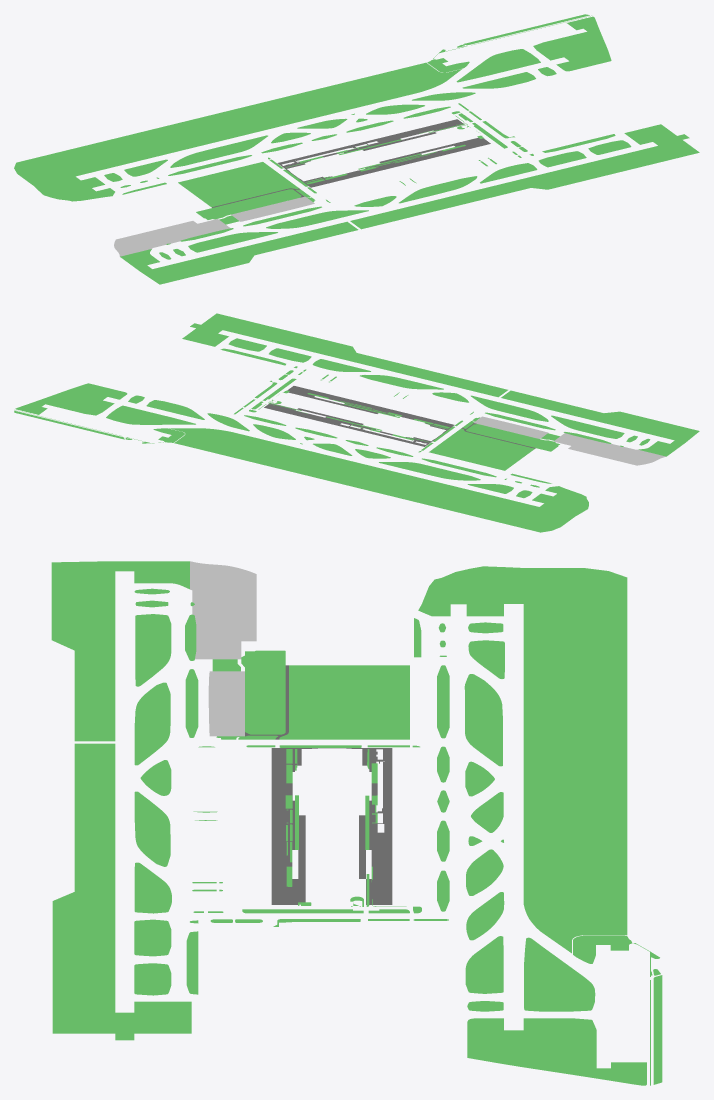
Rendered from Fix_RoadSurface.fbx.
3 views of the same model, one above another, from view 1: azimuth 30°, elevation 25°; view 2: azimuth 150°, elevation 25°; view 3: azimuth 270°, elevation 25° (orthographic). The views are drawn at different scales.
Parts seen in each view (by area): view 1: polySurface2857, polySurface2831, pPlane196; view 2: polySurface2857, polySurface2831, pPlane196; view 3: polySurface2857, pPlane196, polySurface2831.
Part boxes in pixels (<box>): polySurface2857: <box>14,14,699,284</box>; polySurface2831: <box>212,119,490,207</box>; pPlane196: <box>114,196,314,256</box>; polySurface2857: <box>14,313,699,532</box>; polySurface2831: <box>264,386,535,448</box>; pPlane196: <box>473,416,665,465</box>; polySurface2857: <box>51,561,662,1085</box>; pPlane196: <box>190,561,256,736</box>; polySurface2831: <box>245,665,392,904</box>.
Bounding box in the file's own units: 4790 × 0.0452 × 2356.
